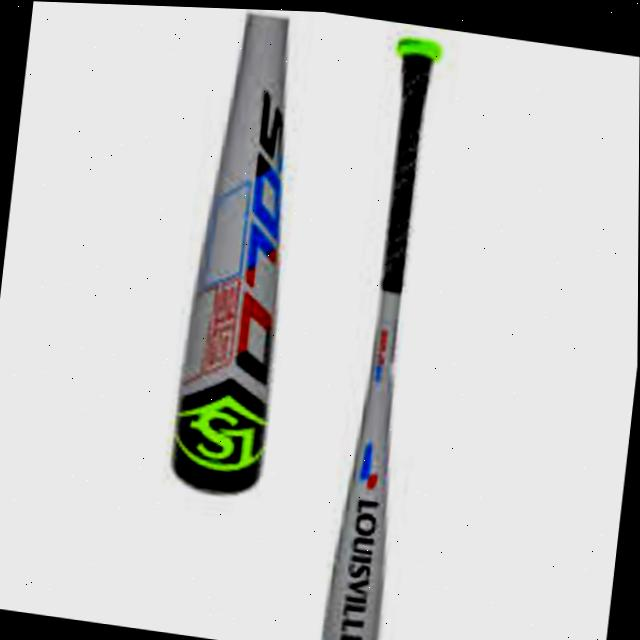baseball bat: (319, 30, 446, 640), (167, 5, 315, 502)
